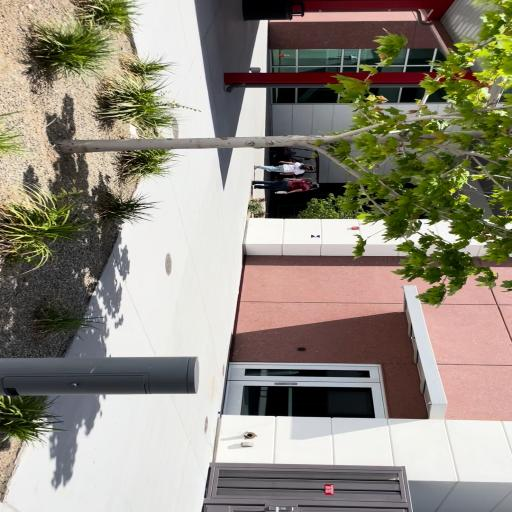target6: (311, 234, 320, 238)
